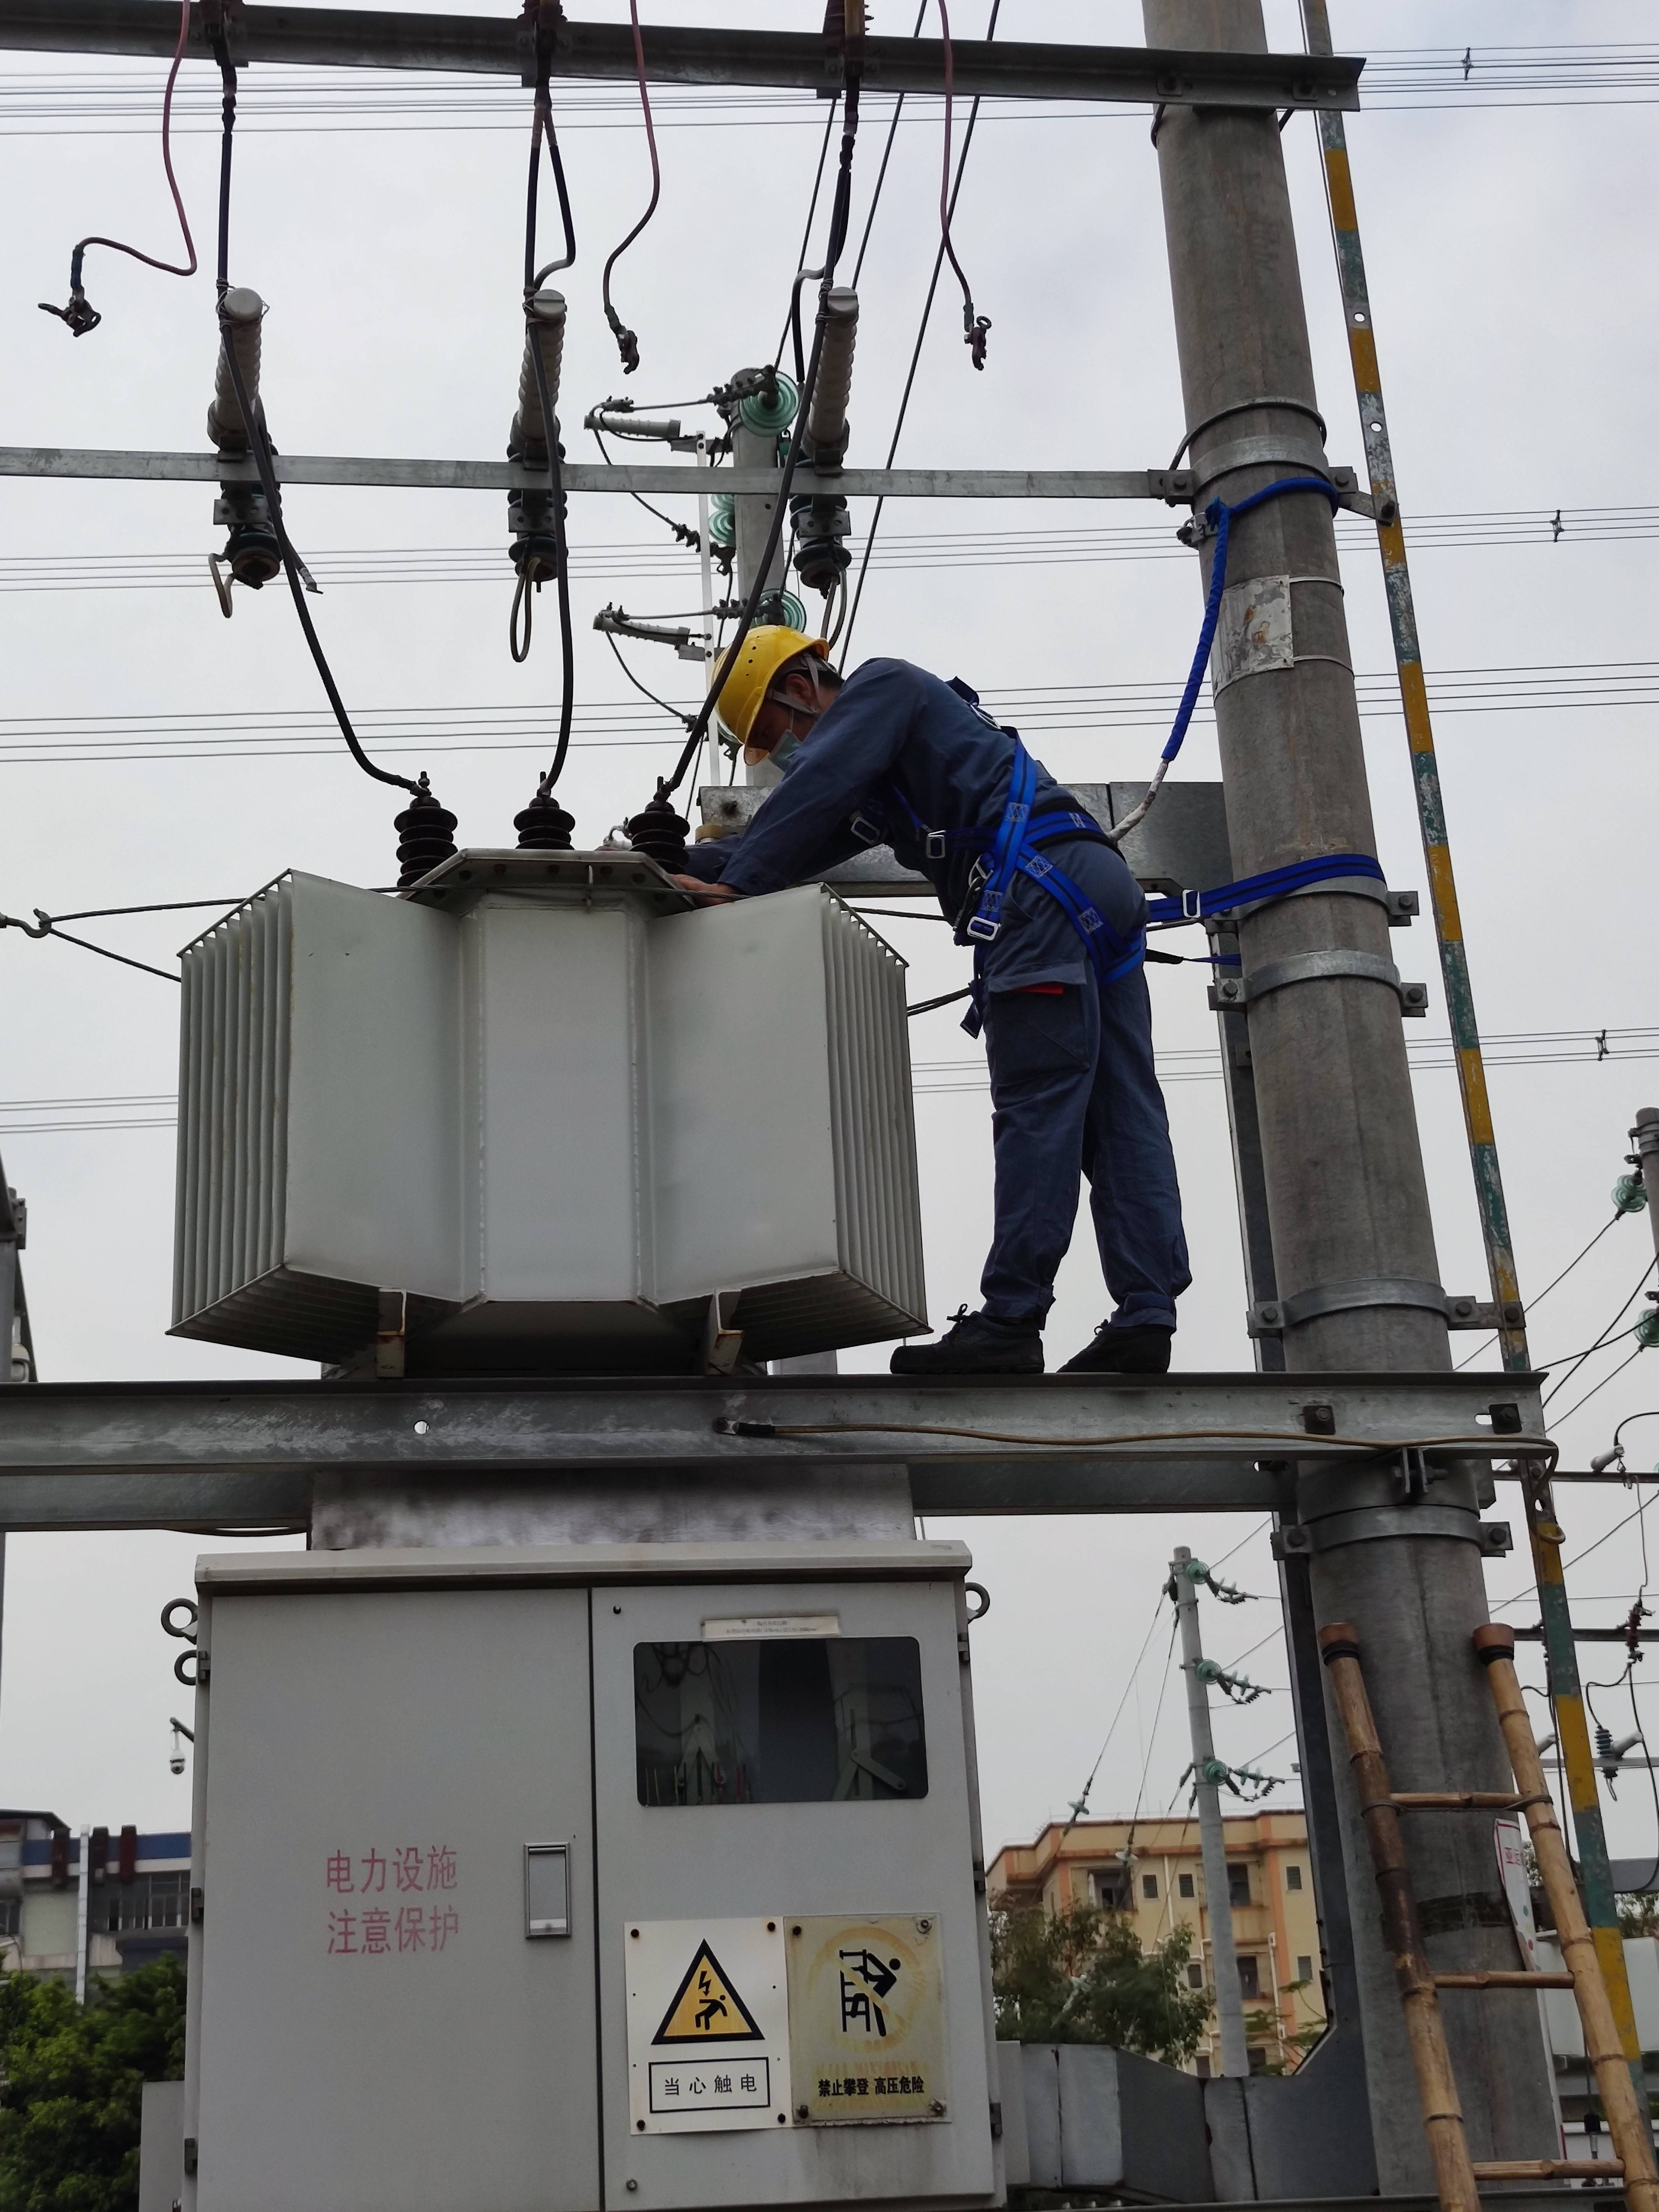downsuit: (957, 826, 1190, 1324)
upsuit: (685, 658, 1101, 892)
